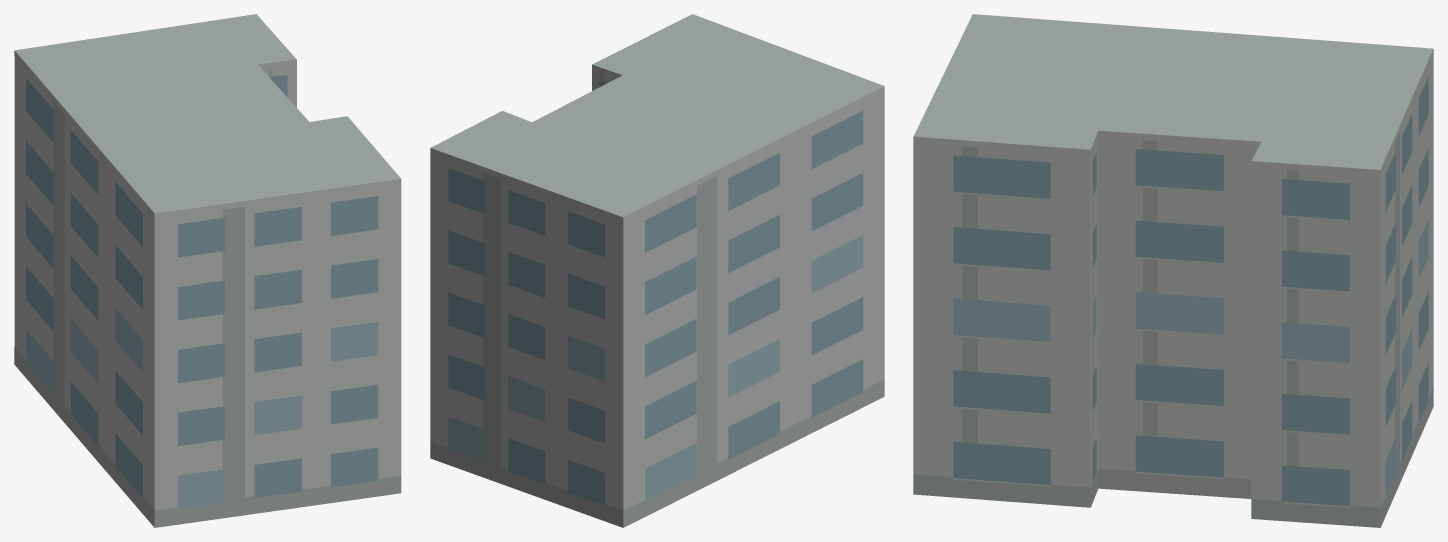
The model's file is survey-upis-32820023.glb.
3 views of the same model, side by side, from view 1: azimuth 30°, elevation 25°; view 2: azimuth 150°, elevation 25°; view 3: azimuth 270°, elevation 25° (orthographic). The views are drawn at different scales.
Visible parts, largest first — view 1: survey-upis-32820023.tmp; view 2: survey-upis-32820023.tmp; view 3: survey-upis-32820023.tmp.
Part boxes in pixels (x1=…): survey-upis-32820023.tmp: x1=14, y1=14, x2=401, y2=527; survey-upis-32820023.tmp: x1=430, y1=14, x2=884, y2=527; survey-upis-32820023.tmp: x1=913, y1=14, x2=1433, y2=527.
Bounding box in the file's own units: 12.53 × 13.4 × 17.66.
